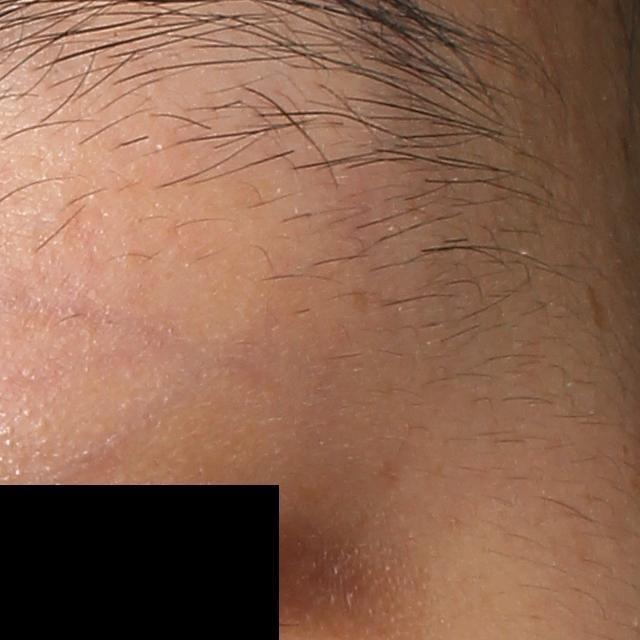melasma: (585, 282, 613, 330)
